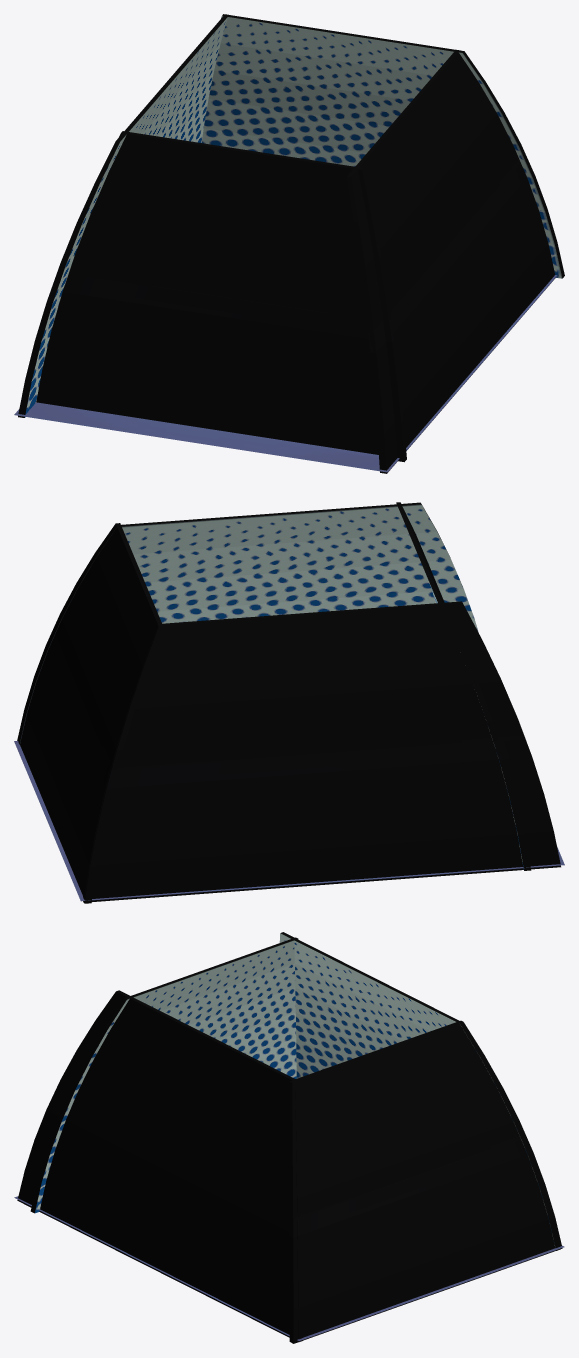
The model's file is ExhibitModel_008.glb.
The picture shows the model from 3 angles, top to bottom: view 1: azimuth 30°, elevation 25°; view 2: azimuth 150°, elevation 25°; view 3: azimuth 270°, elevation 25°; orthographic projection. The views are drawn at different scales.
Parts seen in each view (by area): view 1: WallsFloor; view 2: WallsFloor; view 3: WallsFloor.
Boxes of the visible parts, left/top/right/bottom form: WallsFloor: left=14, top=14, right=564, bottom=473; WallsFloor: left=14, top=502, right=564, bottom=903; WallsFloor: left=14, top=932, right=564, bottom=1343.
Bounding box in the file's own units: 46.79 × 20 × 45.79.
Materials: 1 (1 with a texture image).
